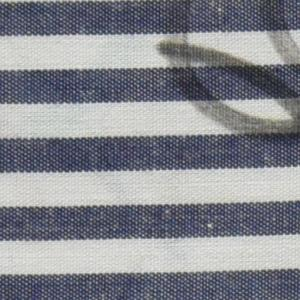Stain: (155, 1, 300, 150)
